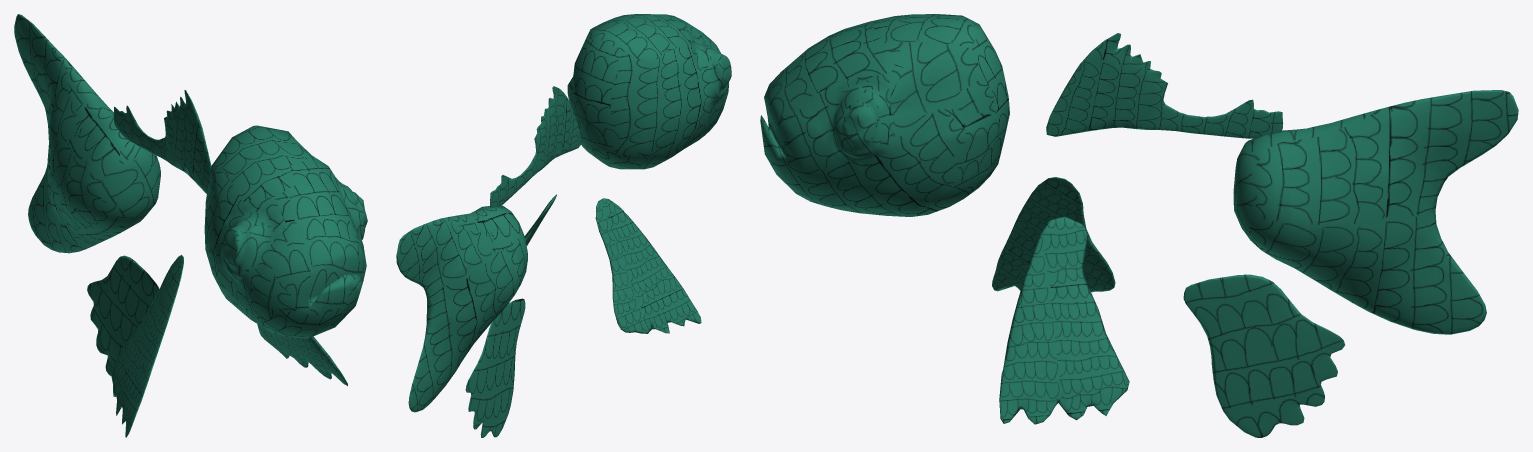
Rendered from ch3_fish.glb.
3 views of the same model, side by side, from view 1: azimuth 30°, elevation 25°; view 2: azimuth 150°, elevation 25°; view 3: azimuth 270°, elevation 25° (orthographic). The views are drawn at different scales.
Parts seen in each view (by area): view 1: _h3, _r32, _r33, _b32, _r31, _b31; view 2: _h3, _r32, _b32, _r33, _r31; view 3: _r32, _h3, _b31, _r33, _r31, _b32.
Boxes of the visible parts, left/top/right/bottom form: _h3: left=204, top=125, right=367, bottom=338; _r32: left=14, top=14, right=160, bottom=253; _r33: left=87, top=255, right=159, bottom=376; _b32: left=111, top=255, right=183, bottom=437; _r31: left=113, top=90, right=211, bottom=193; _b31: left=257, top=324, right=347, bottom=385; _h3: left=567, top=14, right=731, bottom=169; _r32: left=396, top=205, right=527, bottom=412; _b32: left=595, top=198, right=701, bottom=333; _r33: left=465, top=298, right=525, bottom=437; _r31: left=490, top=86, right=581, bottom=208; _r32: left=1233, top=90, right=1518, bottom=334; _h3: left=760, top=14, right=1009, bottom=216; _b31: left=999, top=216, right=1129, bottom=424; _r33: left=1183, top=274, right=1344, bottom=437; _r31: left=1046, top=33, right=1283, bottom=138; _b32: left=992, top=177, right=1115, bottom=292.
Bounding box in the file's own units: 0.7114 × 1.1 × 1.81.
1 material, 1 textured.
